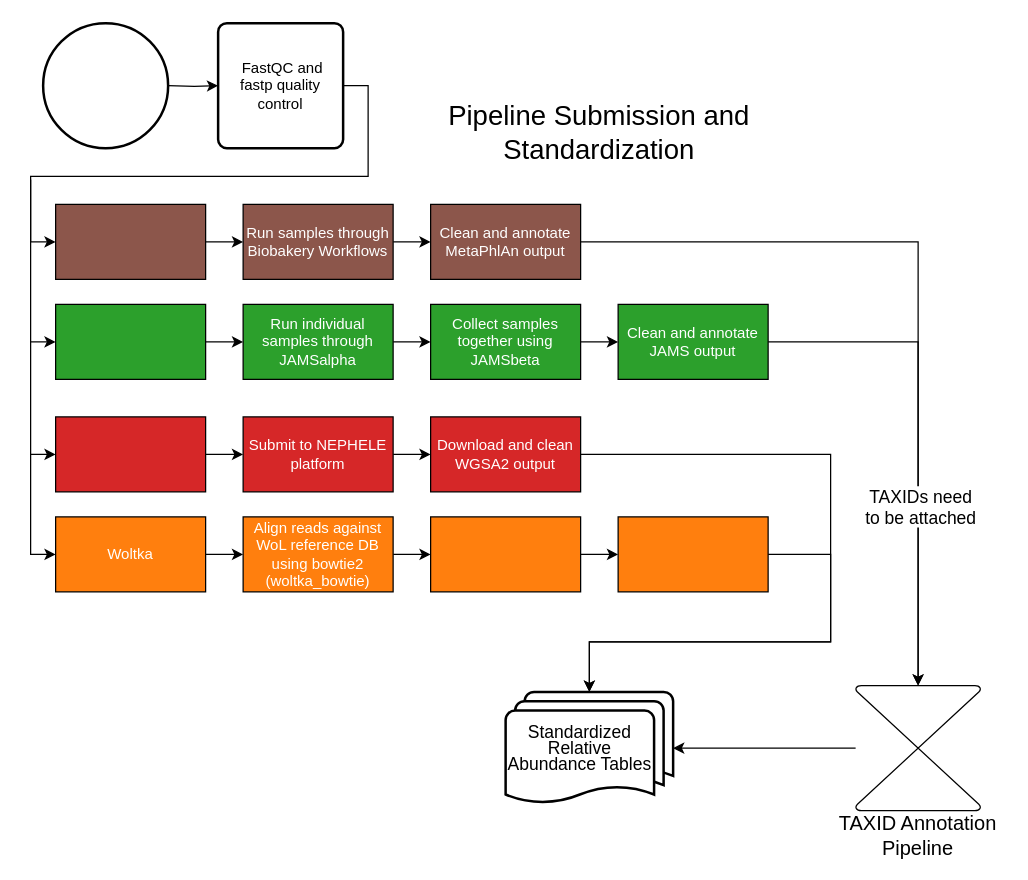
Image size: 1028x880. Some labels were removed from this diagram. Here are the shapes that lost their labels. From the top down, the centre of each, then its label:
At pixel 105 85: "Start: Library of Mock Communities".
At pixel 130 241: "Biobakery".
At pixel 130 341: "JAMS".
At pixel 130 454: "WGSA2".
At pixel 505 554: "Classify bowite2 outputs using Woltka (woltka_classify)".
At pixel 692 554: "Clean Woltka Output".
